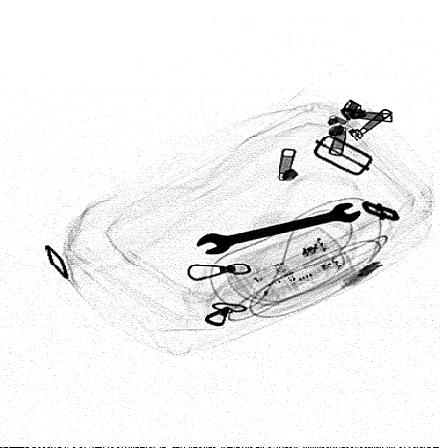Wrench: (195, 201, 365, 254)
